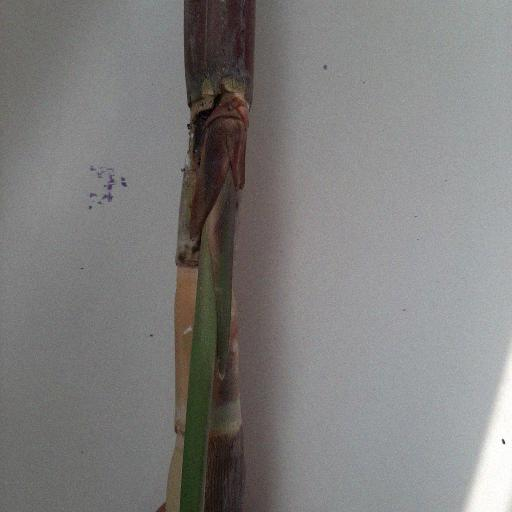Sprouted_Bud: (218, 93, 246, 196)
